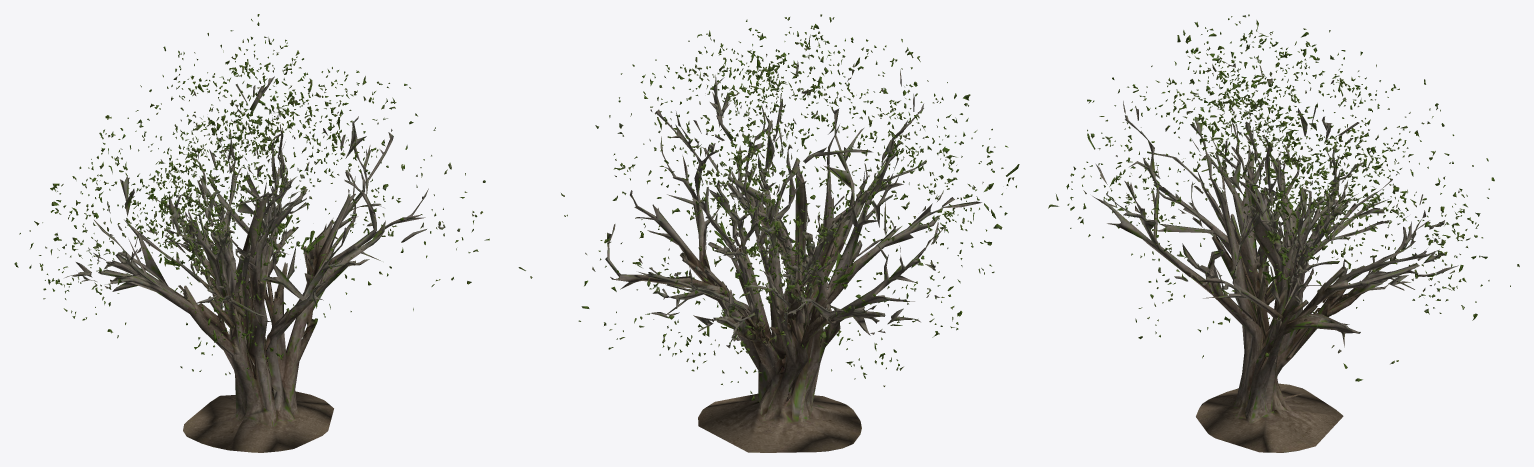
File: tree_oliv_lod1.glb
3 renders of one model, left to right at view 1: azimuth 30°, elevation 25°; view 2: azimuth 150°, elevation 25°; view 3: azimuth 270°, elevation 25°, orthographic. The views are drawn at different scales.
Parts seen in each view (by area): view 1: world; view 2: world; view 3: world.
Boxes of the visible parts, <box> form: world: <box>14,14,489,452</box>; world: <box>518,14,1019,452</box>; world: <box>1048,14,1519,452</box>.
Size of the model in its own units: 0.9325 by 0.8753 by 0.9722.
Materials: 1 (1 with a texture image).
